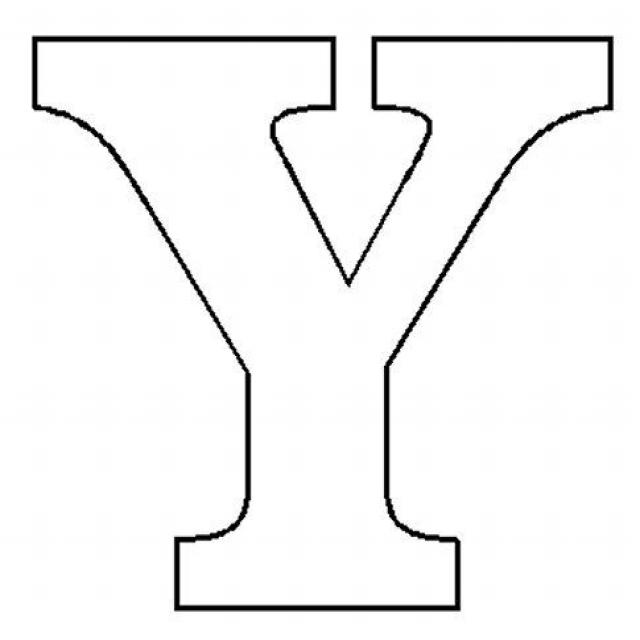Y: (19, 7, 624, 628)
